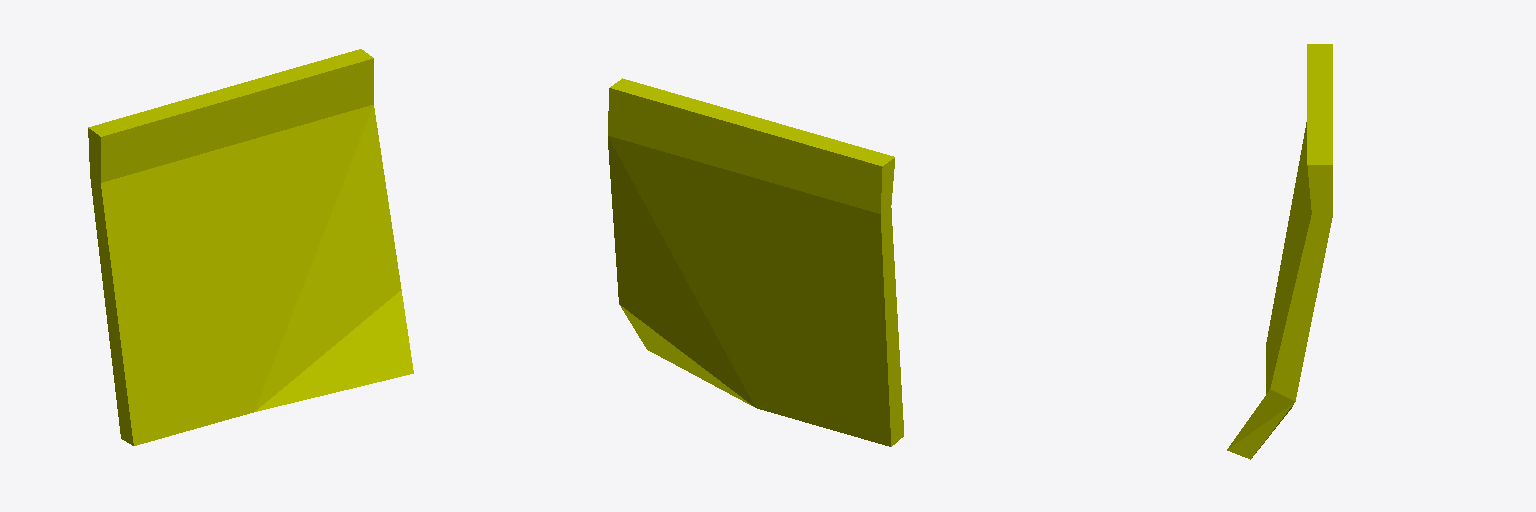
The model's file is post-it_taches.002.obj.
The picture shows the model from 3 angles: view 1: azimuth 30°, elevation 25°; view 2: azimuth 150°, elevation 25°; view 3: azimuth 270°, elevation 25°; orthographic projection.
Visible parts, largest first — view 1: post-it_taches.002; view 2: post-it_taches.002; view 3: post-it_taches.002.
Part boxes in pixels (x1,y1,x2,y2): post-it_taches.002: (88,49,413,445); post-it_taches.002: (608,78,903,446); post-it_taches.002: (1227,44,1332,459).
Size of the model in its own units: 0.1483 by 0.156 by 0.0485.